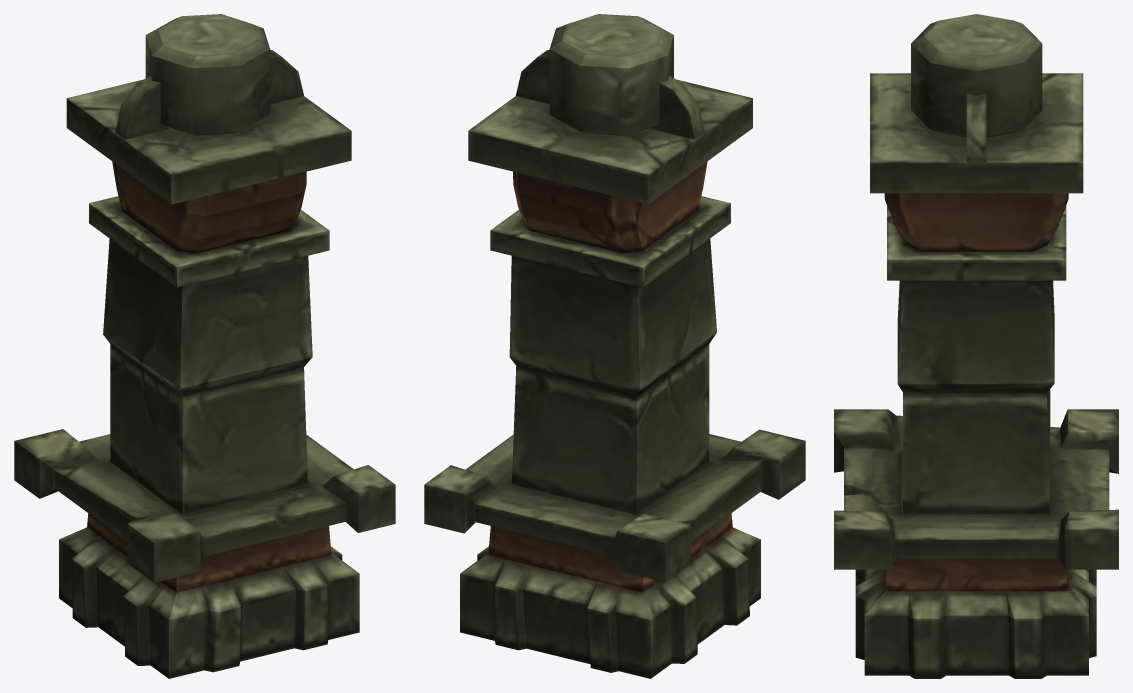
File: pillar_02.fbx
3 renders of one model, left to right at view 1: azimuth 30°, elevation 25°; view 2: azimuth 150°, elevation 25°; view 3: azimuth 270°, elevation 25°, orthographic.
Visible parts, largest first — view 1: pillar_02; view 2: pillar_02; view 3: pillar_02.
Part boxes in pixels (x1=…): pillar_02: x1=14, y1=14, x2=395, y2=678; pillar_02: x1=424, y1=14, x2=805, y2=678; pillar_02: x1=834, y1=14, x2=1118, y2=678.
Size of the model in its own units: 215 by 494 by 216.
